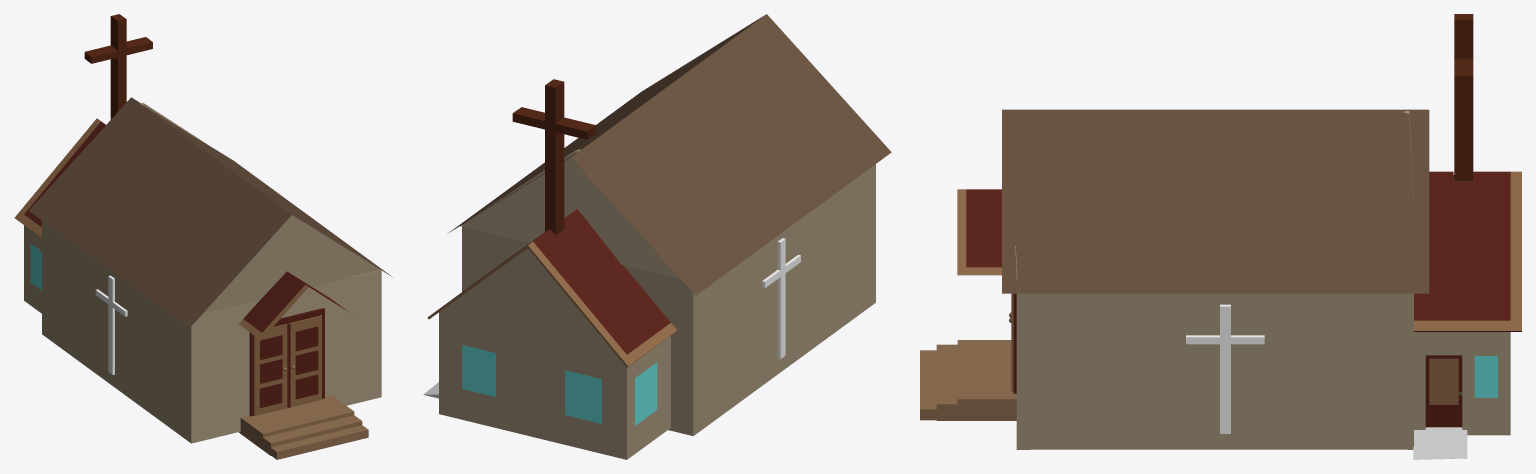
The model's file is church.fbx.
The picture shows the model from 3 angles, left to right: view 1: azimuth 30°, elevation 25°; view 2: azimuth 150°, elevation 25°; view 3: azimuth 270°, elevation 25°; orthographic projection. The views are drawn at different scales.
Visible parts, largest first — view 1: group_0.009, Plane, Plane.002, Plane.003, Plane.004, group_0.134, Cube, group_0.004, group_0.005, Cube.002, Cube.004, Cube.005 (+18 smaller); view 2: group_0.009, Plane, group_0.376, group_0.172, Plane.015, group_0.134, Plane.014, group_0.006, group_0.012, group_0.129, Plane.013, Plane.016 (+5 smaller); view 3: group_0.009, Plane.001, group_0.172, group_0.134, group_0.012, Cube, group_0.129, group_0.005, Plane.003, Cube.001, group_0.002, group_0.004 (+8 smaller).
Part boxes in pixels (x1,y1,x2,y2): group_0.009: (42,101,378,315); Plane: (42,221,194,443); Plane.002: (194,302,249,442); Plane.003: (323,270,381,405); Plane.004: (203,215,380,313); group_0.134: (29,97,391,328); Cube: (239,395,354,437); group_0.004: (87,16,152,114); group_0.005: (243,271,346,332); Cube.002: (246,425,368,459); Cube.004: (253,324,287,416); Cube.005: (288,315,321,407); group_0.009: (464,19,875,280); Plane: (693,164,875,435); group_0.376: (439,248,626,459); group_0.172: (449,209,670,354); Plane.015: (460,149,680,278); group_0.134: (447,14,891,295); Plane.014: (624,265,693,435); group_0.006: (512,82,592,235); group_0.012: (627,336,670,459); group_0.129: (427,241,677,367); Plane.013: (462,226,529,291); Plane.016: (565,370,601,423); group_0.009: (1017,109,1413,279); Plane.001: (1030,293,1407,449); group_0.172: (1414,171,1510,320); group_0.134: (1002,109,1429,293); group_0.012: (1414,332,1510,435); Cube: (957,340,1016,420); group_0.129: (1414,171,1521,330); group_0.005: (966,189,1001,267); Plane.003: (1016,293,1030,449); Cube.001: (936,344,1016,420); group_0.002: (1186,304,1264,433); group_0.004: (1454,14,1465,180).
Bounding box in the file's own units: 791 × 1009 × 1468.
